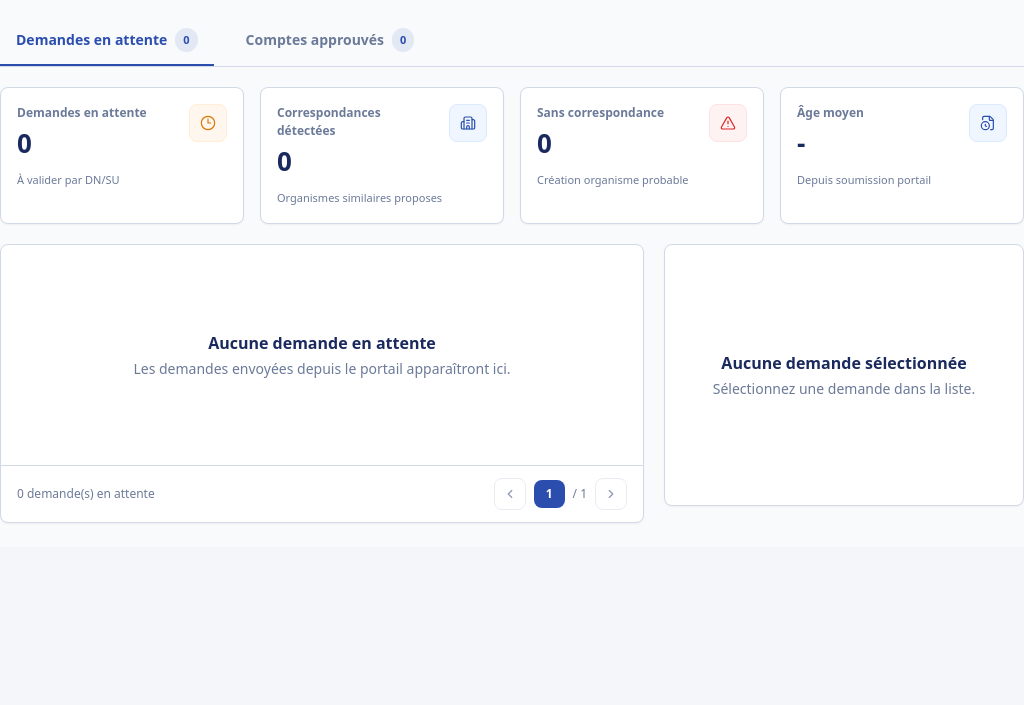
Test: <AccountRequestsPage> approved account edit › click « Modifier » prefills the form; organisation is read-only with the helper
The image size is (1024, 705).
Click the button "Comptes approuvés 0".
click(330, 41)  # box [230,16,430,66]
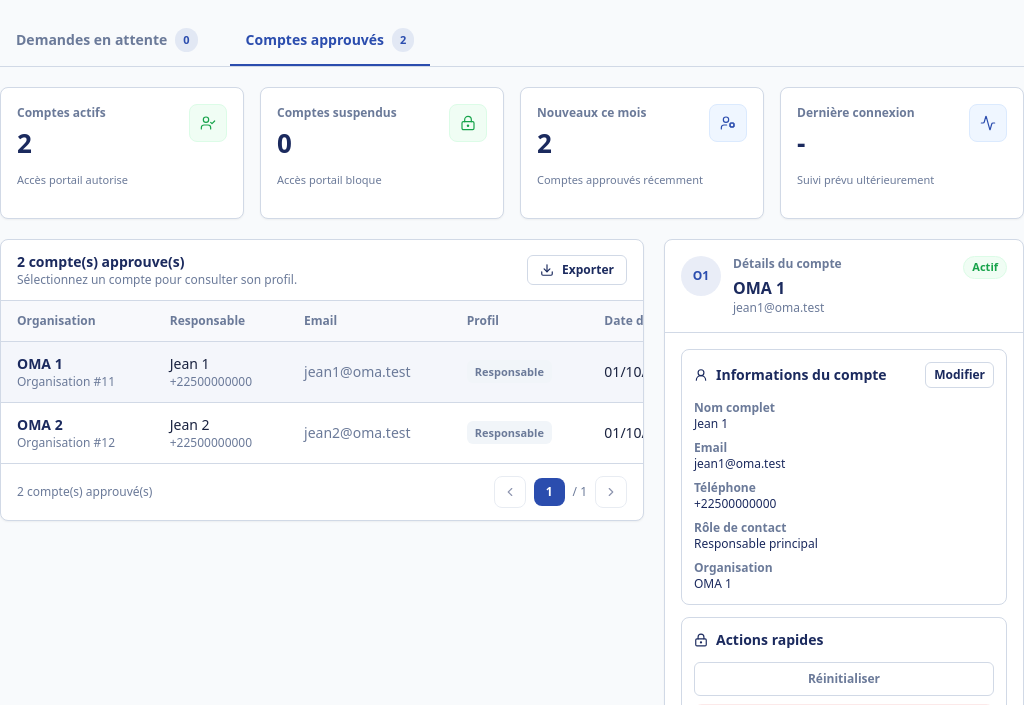
Click the button "Modifier".
click(960, 375)  # box [925,362,994,388]
(page scrolled)
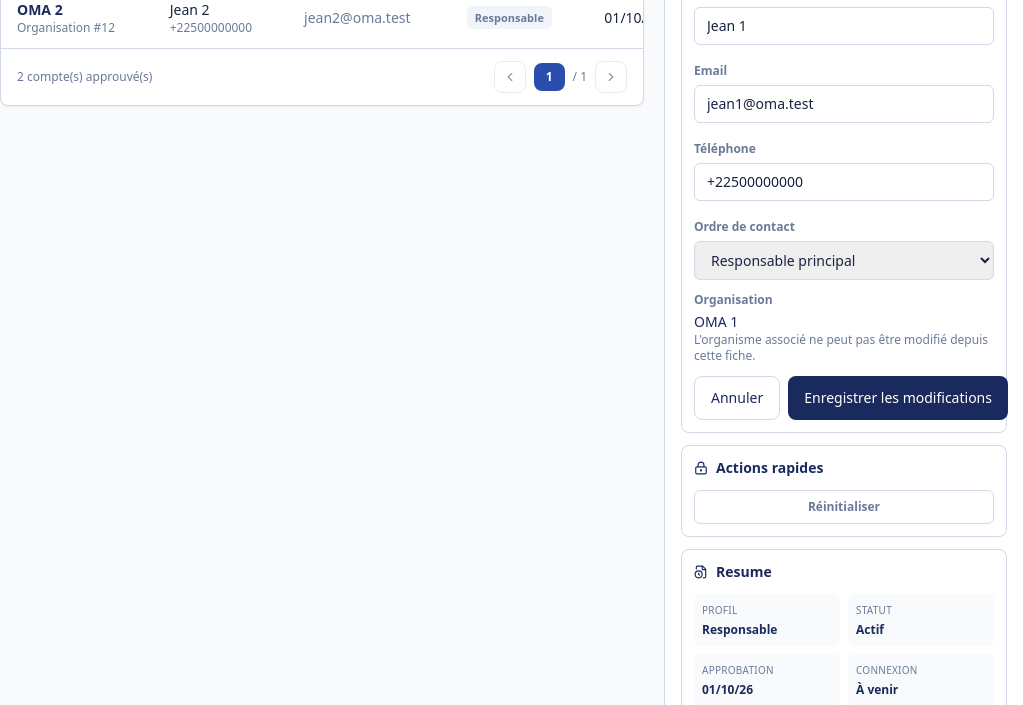
Expected: the field labelled "Nom complet" holds "Jean 1", [694,7,994,45]
Expected: the field labelled "Email" holds "jean1@oma.test", [694,85,994,123]
Expected: the field labelled "Téléphone" holds "+22500000000", [694,163,994,201]
